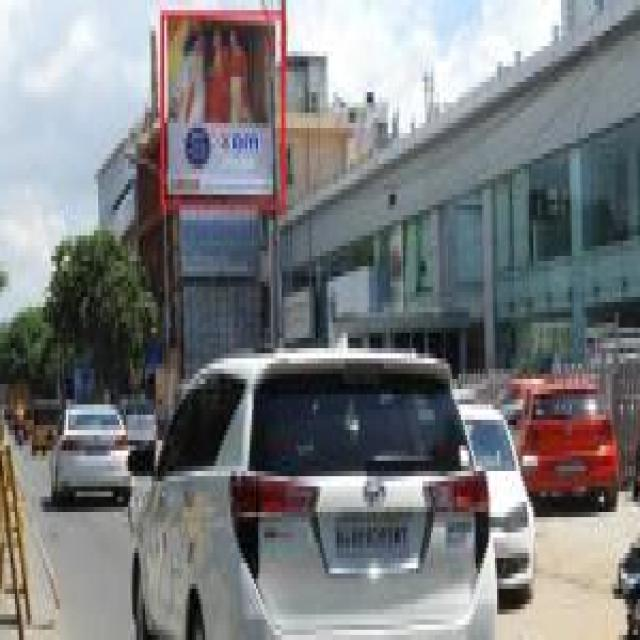Werbetafel frei: (168, 22, 276, 196)
